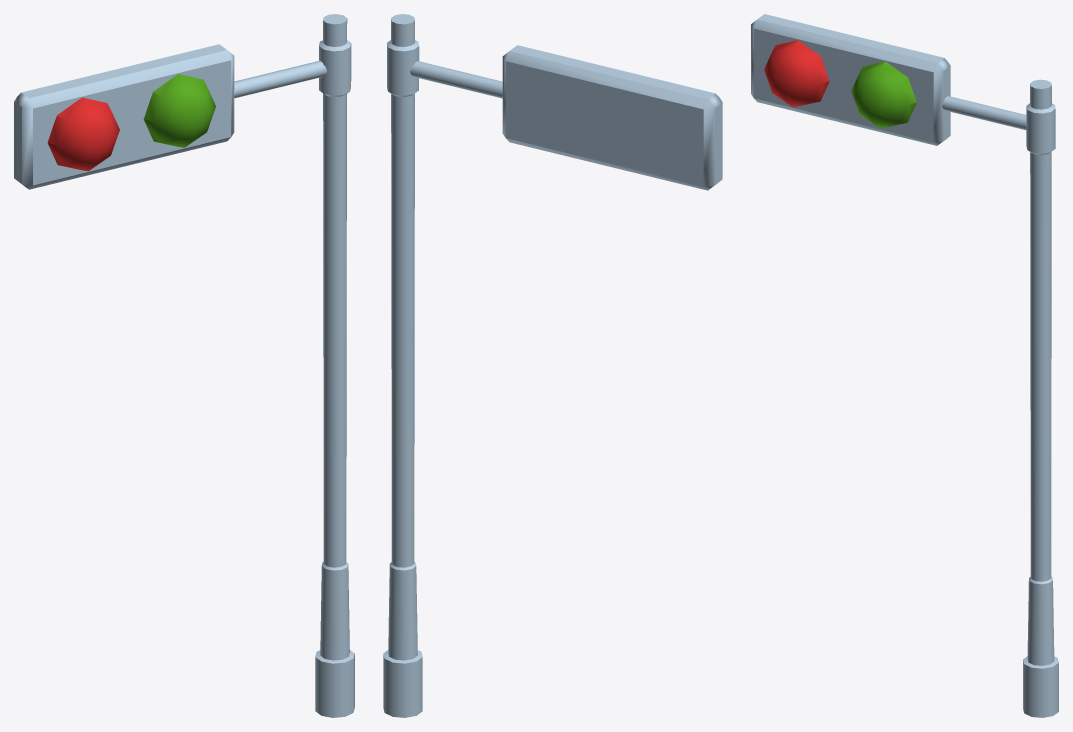
File: Isl_20_Traffic_Lights.fbx
3 views of the same model, side by side, from view 1: azimuth 30°, elevation 25°; view 2: azimuth 150°, elevation 25°; view 3: azimuth 330°, elevation 25° (orthographic). The views are drawn at different scales.
Visible parts, largest first — view 1: Isl_20_Traffic_Lights; view 2: Isl_20_Traffic_Lights; view 3: Isl_20_Traffic_Lights.
Boxes of the visible parts, <box> form: Isl_20_Traffic_Lights: <box>14,14,354,717</box>; Isl_20_Traffic_Lights: <box>383,14,722,717</box>; Isl_20_Traffic_Lights: <box>751,14,1058,717</box>.
Bounding box in the file's own units: 161 × 28.74 × 318.
Materials: 1 (1 with a texture image).
